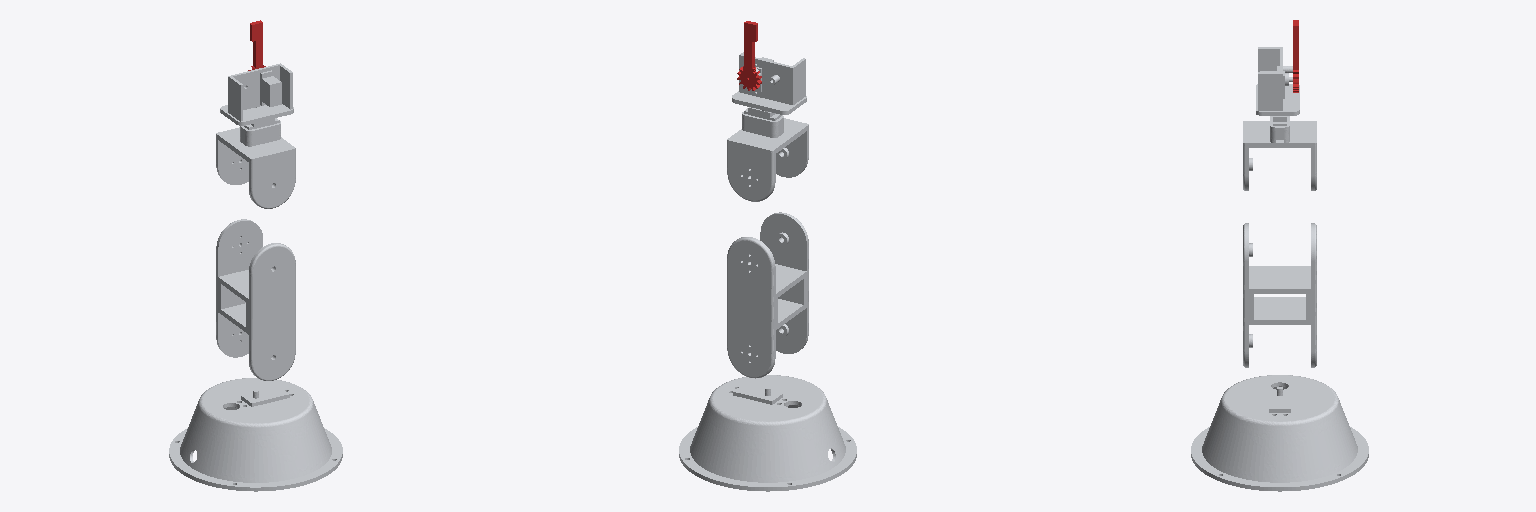
robot.urdf — robot_ensamble:
<?xml version="1.0"?>
<!-- Exported by SolidCraft; units: m, kg, rad -->
<robot name="robot_ensamble">
  <link name="base_link">
  </link>
  <link name="Base_part">
    <inertial>
      <origin xyz="0.002210785713918129 5.133576579074321e-7 0.03125863148933742" rpy="0 0 0"/>
      <mass value="0.17886679157228155"/>
      <inertia ixx="3.1244594127665244e-4" ixy="-8.931426301644482e-10" ixz="-2.6865654191651183e-6" iyy="3.1610269187013786e-4" iyz="-5.915348681368136e-10" izz="4.963584643600235e-4"/>
    </inertial>
    <visual>
      <origin xyz="0 0 0" rpy="0 0 0"/>
      <geometry><mesh filename="robot_ensamble-Base_part.stl"/></geometry>
      <material name="Base_part_color"><color rgba="0.843137264251709 0.8549019694328308 0.8745098114013672 1"/></material>
    </visual>
    <collision>
      <origin xyz="0 0 0" rpy="0 0 0"/>
      <geometry><mesh filename="robot_ensamble-Base_part.stl"/></geometry>
    </collision>
  </link>
  <link name="Base_movil">
    <inertial>
      <origin xyz="-0.0170683857676466 1.6886020675002718e-4 0.06891772554422532" rpy="0 0 0"/>
      <mass value="0.8434752297189357"/>
      <inertia ixx="0.014054650079165894" ixy="-7.840317479382486e-6" ixz="0.002104435727787717" iyy="0.011702790217793576" iyz="6.3419264054613875e-6" izz="0.00574522565584777"/>
    </inertial>
    <visual>
      <origin xyz="0 0 0" rpy="0 0 0"/>
      <geometry><mesh filename="robot_ensamble-Base_movil.stl"/></geometry>
      <material name="Base_movil_color"><color rgba="0.843137264251709 0.8549019694328308 0.8745098114013672 1"/></material>
    </visual>
    <collision>
      <origin xyz="0 0 0" rpy="0 0 0"/>
      <geometry><mesh filename="robot_ensamble-Base_movil.stl"/></geometry>
    </collision>
  </link>
  <link name="Shoulder_part">
    <inertial>
      <origin xyz="-0.011969892231723738 1.3148897245744983e-8 0.023990391982918177" rpy="0 0 0"/>
      <mass value="0.2195951810151835"/>
      <inertia ixx="1.6855467616048214e-4" ixy="8.306604878965613e-10" ixz="2.368751120356772e-5" iyy="2.9575497722668587e-4" iyz="1.5437880669250864e-10" izz="2.72325371013173e-4"/>
    </inertial>
    <visual>
      <origin xyz="0 0 -0.066" rpy="0 0 -1.5707963267948966"/>
      <geometry><mesh filename="robot_ensamble-Shoulder_part.stl"/></geometry>
      <material name="Shoulder_part_color"><color rgba="0.7058823704719543 0.7254902124404907 0.7529411911964417 1"/></material>
    </visual>
    <collision>
      <origin xyz="0 0 -0.066" rpy="0 0 -1.5707963267948966"/>
      <geometry><mesh filename="robot_ensamble-Shoulder_part.stl"/></geometry>
    </collision>
  </link>
  <link name="UpperArm_part">
    <inertial>
      <origin xyz="-0.04500075654150348 4.408758597005858e-9 -1.7831092793324824e-4" rpy="0 0 0"/>
      <mass value="0.1293220673464765"/>
      <inertia ixx="1.1598360170120709e-4" ixy="2.8230359951300737e-11" ixz="3.5724153042774175e-10" iyy="2.10382734279524e-4" iyz="1.9363206235926242e-11" izz="1.41371428601584e-4"/>
    </inertial>
    <visual>
      <origin xyz="0.112 0 0" rpy="1.5707963267948966 0 -1.5707963267948966"/>
      <geometry><mesh filename="robot_ensamble-UpperArm_part.stl"/></geometry>
      <material name="UpperArm_part_color"><color rgba="0.843137264251709 0.8549019694328308 0.8745098114013672 1"/></material>
    </visual>
    <collision>
      <origin xyz="0.112 0 0" rpy="1.5707963267948966 0 -1.5707963267948966"/>
      <geometry><mesh filename="robot_ensamble-UpperArm_part.stl"/></geometry>
    </collision>
  </link>
  <link name="Forearm_part">
    <inertial>
      <origin xyz="-0.04250032716105135 2.2304895635906113e-7 0.0015783067448255851" rpy="0 0 0"/>
      <mass value="0.18888878319772245"/>
      <inertia ixx="7.480415575575822e-5" ixy="1.558919703865544e-9" ixz="8.577750142035877e-10" iyy="3.0498835765949866e-4" iyz="-8.937116525919415e-11" izz="2.9677428522073025e-4"/>
    </inertial>
    <visual>
      <origin xyz="0.202 0 0" rpy="1.5707963267948966 0 -1.5707963267948966"/>
      <geometry><mesh filename="robot_ensamble-Forearm_part.stl"/></geometry>
      <material name="Forearm_part_color"><color rgba="0.843137264251709 0.8549019694328308 0.8745098114013672 1"/></material>
    </visual>
    <collision>
      <origin xyz="0.202 0 0" rpy="1.5707963267948966 0 -1.5707963267948966"/>
      <geometry><mesh filename="robot_ensamble-Forearm_part.stl"/></geometry>
    </collision>
  </link>
  <link name="Wrist_part">
    <inertial>
      <origin xyz="-0.021457639134731542 -0.0011247490576679529 -1.7946195786751044e-4" rpy="0 0 0"/>
      <mass value="0.06436490940610722"/>
      <inertia ixx="4.43819193156903e-5" ixy="-1.5397218448158843e-6" ixz="2.478073240765492e-7" iyy="5.707859607152501e-5" iyz="1.2954570757312585e-8" izz="3.360705204481599e-5"/>
    </inertial>
    <visual>
      <origin xyz="0.28700000000000003 0 0" rpy="1.5707963267948966 0 -1.5707963267948966"/>
      <geometry><mesh filename="robot_ensamble-Wrist_part.stl"/></geometry>
      <material name="Wrist_part_color"><color rgba="0.843137264251709 0.8549019694328308 0.8745098114013672 1"/></material>
    </visual>
    <collision>
      <origin xyz="0.28700000000000003 0 0" rpy="1.5707963267948966 0 -1.5707963267948966"/>
      <geometry><mesh filename="robot_ensamble-Wrist_part.stl"/></geometry>
    </collision>
  </link>
  <link name="Gripper_part">
    <inertial>
      <origin xyz="-0.00354359622401746 -0.002376187354406294 0.01512358552982503" rpy="0 0 0"/>
      <mass value="0.034174425907723696"/>
      <inertia ixx="1.5773176172183337e-5" ixy="-3.0645028317157284e-7" ixz="3.100225334993493e-7" iyy="8.020922203229218e-6" iyz="5.450444185533567e-7" izz="1.3316093581066357e-5"/>
    </inertial>
    <visual>
      <origin xyz="0 0 -0.34900000000000003" rpy="0 0 -1.5707963267948966"/>
      <geometry><mesh filename="robot_ensamble-Gripper_part.stl"/></geometry>
      <material name="Gripper_part_color"><color rgba="0.843137264251709 0.8549019694328308 0.8745098114013672 1"/></material>
    </visual>
    <collision>
      <origin xyz="0 0 -0.34900000000000003" rpy="0 0 -1.5707963267948966"/>
      <geometry><mesh filename="robot_ensamble-Gripper_part.stl"/></geometry>
    </collision>
  </link>
  <link name="JawR_part">
    <inertial>
      <origin xyz="-0.019950917898559226 4.860702737768481e-4 0.002533132008712803" rpy="0 0 0"/>
      <mass value="0.004710176888084433"/>
      <inertia ixx="9.313444255761796e-8" ixy="6.078421593235099e-8" ixz="-3.1134894828352326e-9" iyy="1.9016370330356672e-6" iyz="7.584738488885108e-11" izz="1.975260790813645e-6"/>
    </inertial>
    <visual>
      <origin xyz="0.376 0.0106 -0.012" rpy="1.5707963267948966 0 -1.5707963267948966"/>
      <geometry><mesh filename="robot_ensamble-JawR_part.stl"/></geometry>
      <material name="JawR_part_color"><color rgba="0.8235294222831726 0.23529411852359772 0.23529411852359772 1"/></material>
    </visual>
    <collision>
      <origin xyz="0.376 0.0106 -0.012" rpy="1.5707963267948966 0 -1.5707963267948966"/>
      <geometry><mesh filename="robot_ensamble-JawR_part.stl"/></geometry>
    </collision>
  </link>
  <link name="JawL_part">
    <inertial>
      <origin xyz="-0.019677423101775903 -4.8034924317875933e-4 0.0024999997052757017" rpy="0 0 0"/>
      <mass value="0.004766015837448542"/>
      <inertia ixx="9.354659123034204e-8" ixy="-6.141203338392264e-8" ixz="2.6140352971851823e-14" iyy="1.929590009892373e-6" iyz="-4.2138253455050286e-16" izz="2.0032788247575988e-6"/>
    </inertial>
    <visual>
      <origin xyz="0.376 -0.0106 -0.012" rpy="1.5707963267948966 0 -1.5707963267948966"/>
      <geometry><mesh filename="robot_ensamble-JawL_part.stl"/></geometry>
      <material name="JawL_part_color"><color rgba="0.8235294222831726 0.23529411852359772 0.23529411852359772 1"/></material>
    </visual>
    <collision>
      <origin xyz="0.376 -0.0106 -0.012" rpy="1.5707963267948966 0 -1.5707963267948966"/>
      <geometry><mesh filename="robot_ensamble-JawL_part.stl"/></geometry>
    </collision>
  </link>
  <joint name="Base_part_fixed" type="fixed">
    <parent link="base_link"/>
    <child link="Base_part"/>
    <origin xyz="0 0 0.0499" rpy="0 0 0"/>
  </joint>
  <joint name="Base_movil_fixed" type="fixed">
    <parent link="base_link"/>
    <child link="Base_movil"/>
    <origin xyz="0 0 0" rpy="0 0 0"/>
  </joint>
  <joint name="J1_base" type="revolute">
    <parent link="Base_part"/>
    <child link="Shoulder_part"/>
    <origin xyz="0 0 0.066" rpy="0 0 1.5707963267948966"/>
    <axis xyz="0 0 1"/>
    <limit lower="-1.5707963267948966" upper="1.5707963267948966" effort="1000" velocity="10"/>
  </joint>
  <joint name="J2_shoulder" type="revolute">
    <parent link="Shoulder_part"/>
    <child link="UpperArm_part"/>
    <origin xyz="0 0 0.046" rpy="0 1.5707963267948966 0"/>
    <axis xyz="0 0 1"/>
    <limit lower="-1.5707963267948966" upper="1.5707963267948966" effort="1000" velocity="10"/>
  </joint>
  <joint name="J3_elbow" type="revolute">
    <parent link="UpperArm_part"/>
    <child link="Forearm_part"/>
    <origin xyz="-0.09 0 0" rpy="0 0 0"/>
    <axis xyz="0 0 1"/>
    <limit lower="-1.5707963267948966" upper="1.5707963267948966" effort="1000" velocity="10"/>
  </joint>
  <joint name="J4_wrist_pitch" type="revolute">
    <parent link="Forearm_part"/>
    <child link="Wrist_part"/>
    <origin xyz="-0.08499999999999998 0 0" rpy="0 0 0"/>
    <axis xyz="0 0 1"/>
    <limit lower="-1.5707963267948966" upper="1.5707963267948966" effort="1000" velocity="10"/>
  </joint>
  <joint name="J5_wrist_roll" type="revolute">
    <parent link="Wrist_part"/>
    <child link="Gripper_part"/>
    <origin xyz="-0.062 0 0" rpy="0 -1.5707963267948966 0"/>
    <axis xyz="0 0 1"/>
    <limit lower="-1.5707963267948966" upper="1.5707963267948966" effort="1000" velocity="10"/>
  </joint>
  <joint name="J6_jaw_R" type="revolute">
    <parent link="Gripper_part"/>
    <child link="JawR_part"/>
    <origin xyz="0.012 -0.0106 0.027" rpy="0 1.5707963267948966 0"/>
    <axis xyz="0 0 1"/>
    <limit lower="-0.05235987755982989" upper="0.6108652381980153" effort="1000" velocity="10"/>
  </joint>
  <joint name="J6_jaw_L" type="revolute">
    <parent link="Gripper_part"/>
    <child link="JawL_part"/>
    <origin xyz="0.012 0.0106 0.027" rpy="0 1.5707963267948966 0"/>
    <axis xyz="0 0 1"/>
    <limit lower="-0.6108652381980153" upper="0.05235987755982989" effort="1000" velocity="10"/>
  </joint>
</robot>

--- Render facts (derived) ---
Views: 3 orthographic renders of the robot side by side, from view 1: azimuth 30°, elevation 25°; view 2: azimuth 150°, elevation 25°; view 3: azimuth 270°, elevation 25°.
Model robot_ensamble with 10 links and 9 joints (7 revolute, 2 fixed), rooted at base_link, posed all joints at 0.
Visible links, largest first — view 1: Base_part, UpperArm_part, Wrist_part, Gripper_part, JawR_part; view 2: Base_part, UpperArm_part, Wrist_part, Gripper_part, JawR_part; view 3: Base_part, UpperArm_part, Wrist_part, Gripper_part.
Boxes of the visible links, bbox=[...] form: Base_part: bbox=[169, 378, 342, 491]; UpperArm_part: bbox=[216, 219, 295, 380]; Wrist_part: bbox=[216, 118, 295, 208]; Gripper_part: bbox=[220, 63, 293, 125]; JawR_part: bbox=[248, 20, 265, 70]; Base_part: bbox=[679, 375, 856, 491]; UpperArm_part: bbox=[727, 212, 808, 378]; Wrist_part: bbox=[727, 107, 808, 201]; Gripper_part: bbox=[732, 52, 806, 114]; JawR_part: bbox=[737, 21, 761, 90]; Base_part: bbox=[1191, 375, 1368, 491]; UpperArm_part: bbox=[1243, 223, 1316, 367]; Wrist_part: bbox=[1243, 116, 1316, 190]; Gripper_part: bbox=[1256, 47, 1299, 115].
Size in the robot's own frame: 0.16 by 0.16 by 0.431 metres.
Meshes: 9 distinct files referenced, 5 mesh visuals loaded (5 binary STL); not drawn: 4 (reference not matched to a file when rendering).
